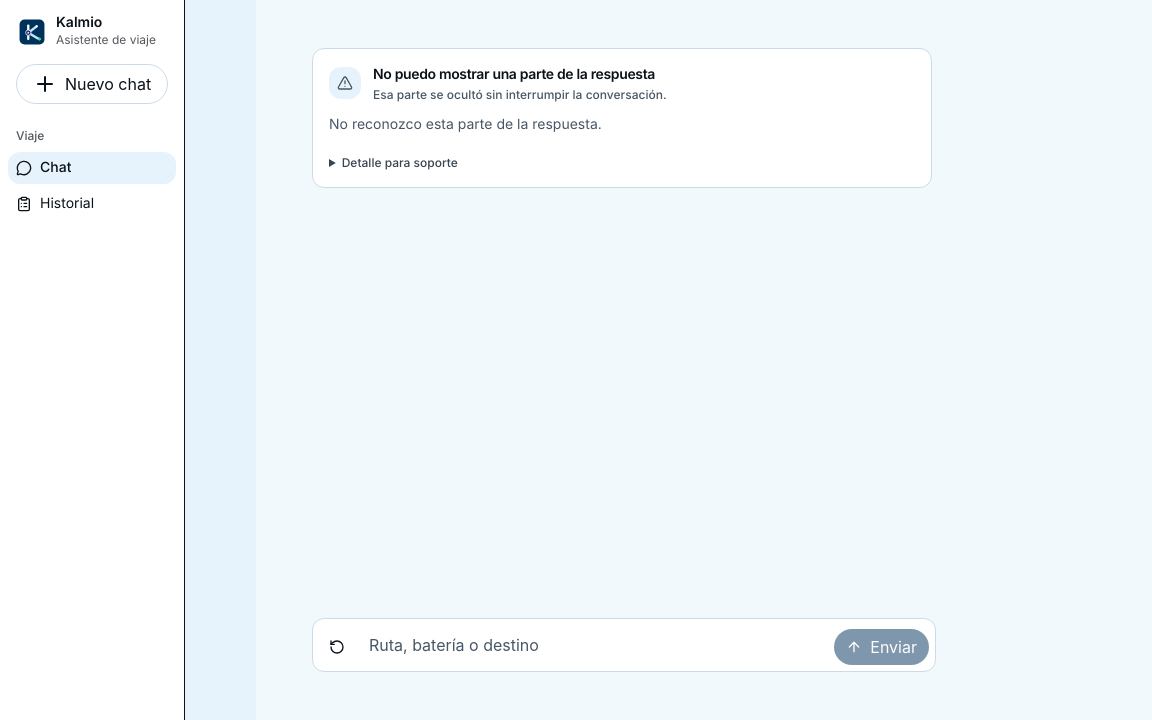
Test: App › translates technical conversation errors into recovery copy with retry
Click the link with aria-label "Chat" at coordinates (86, 31), box [16,14,156,48]
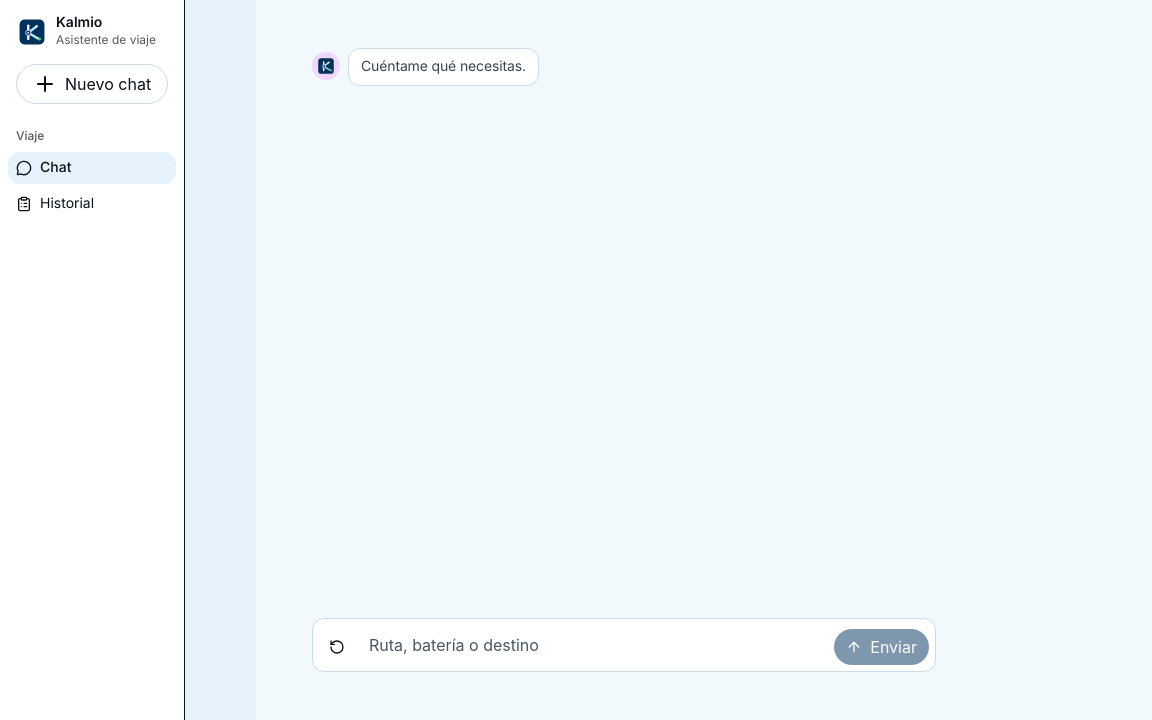
Type "Madrid a Valencia con 20%" into the text box named "Mensaje para Kalmio" at coordinates (595, 645), box [361,625,828,665]
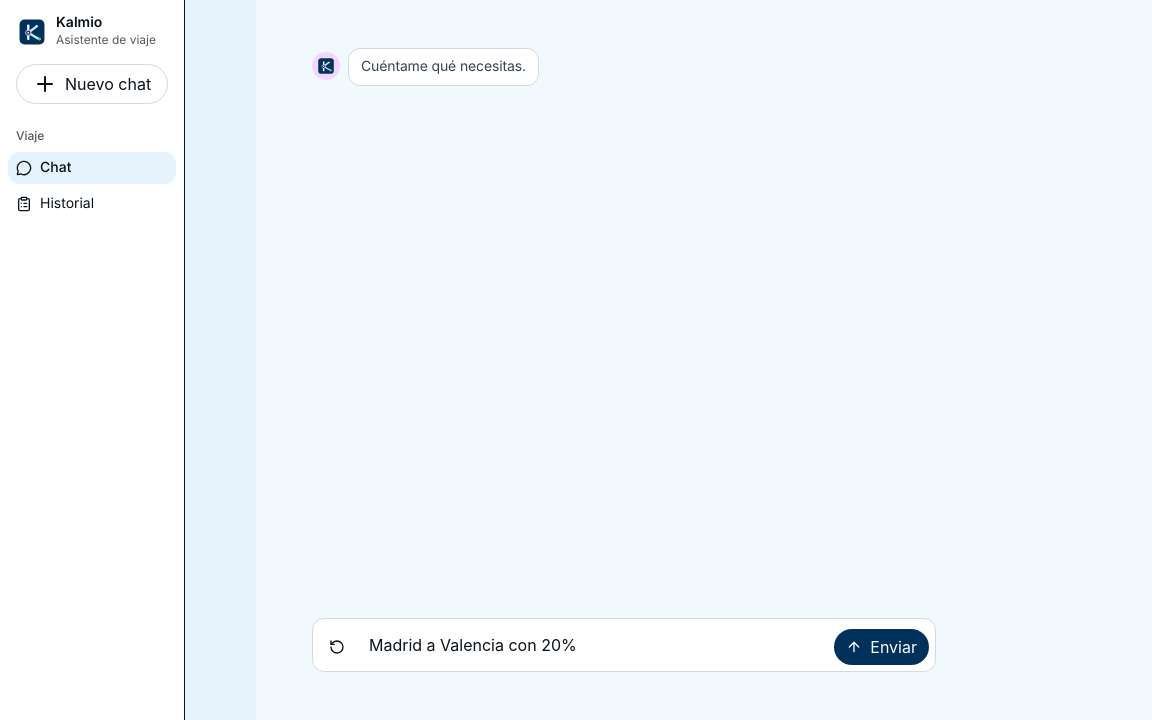
Click the button "Enviar" at coordinates (882, 647), box [834,629,929,665]
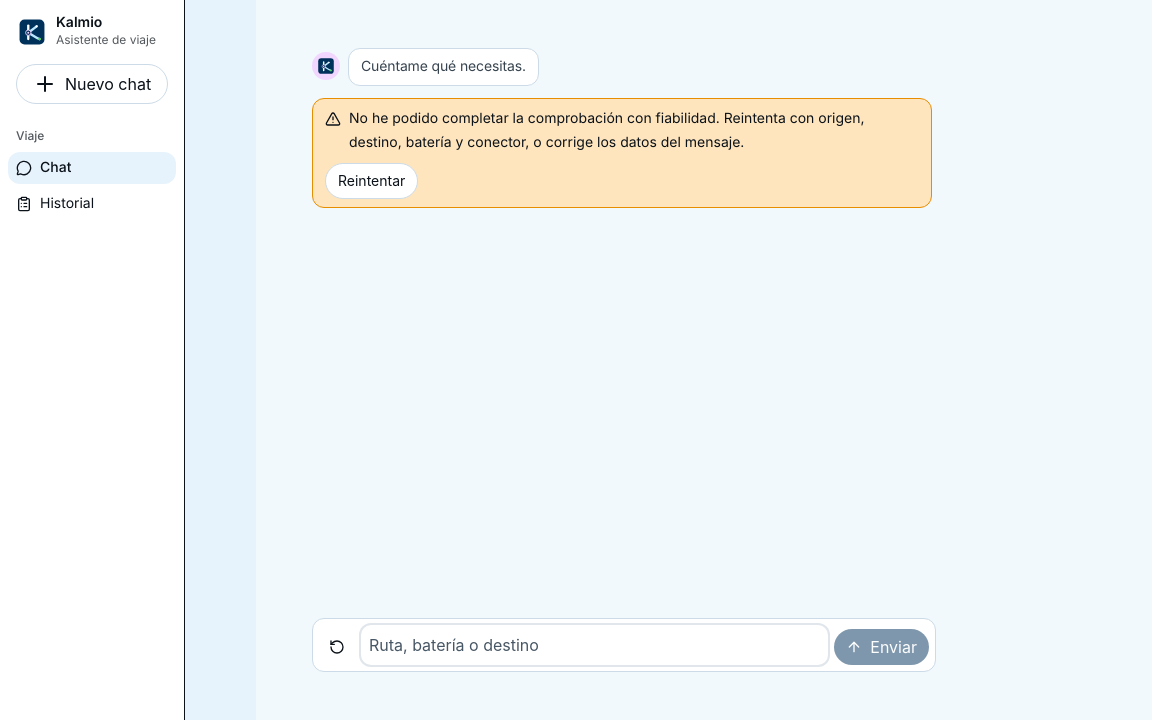
Check: the text "No he podido completar la comprobación" is shown, box [349,110,865,152]
Check: the button "Reintentar" is shown, box [325,164,418,200]
